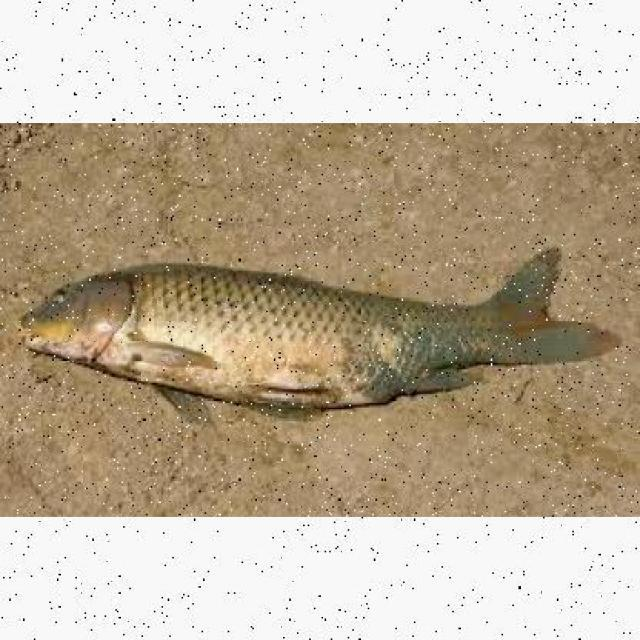ikan-mas: (14, 245, 592, 413)
